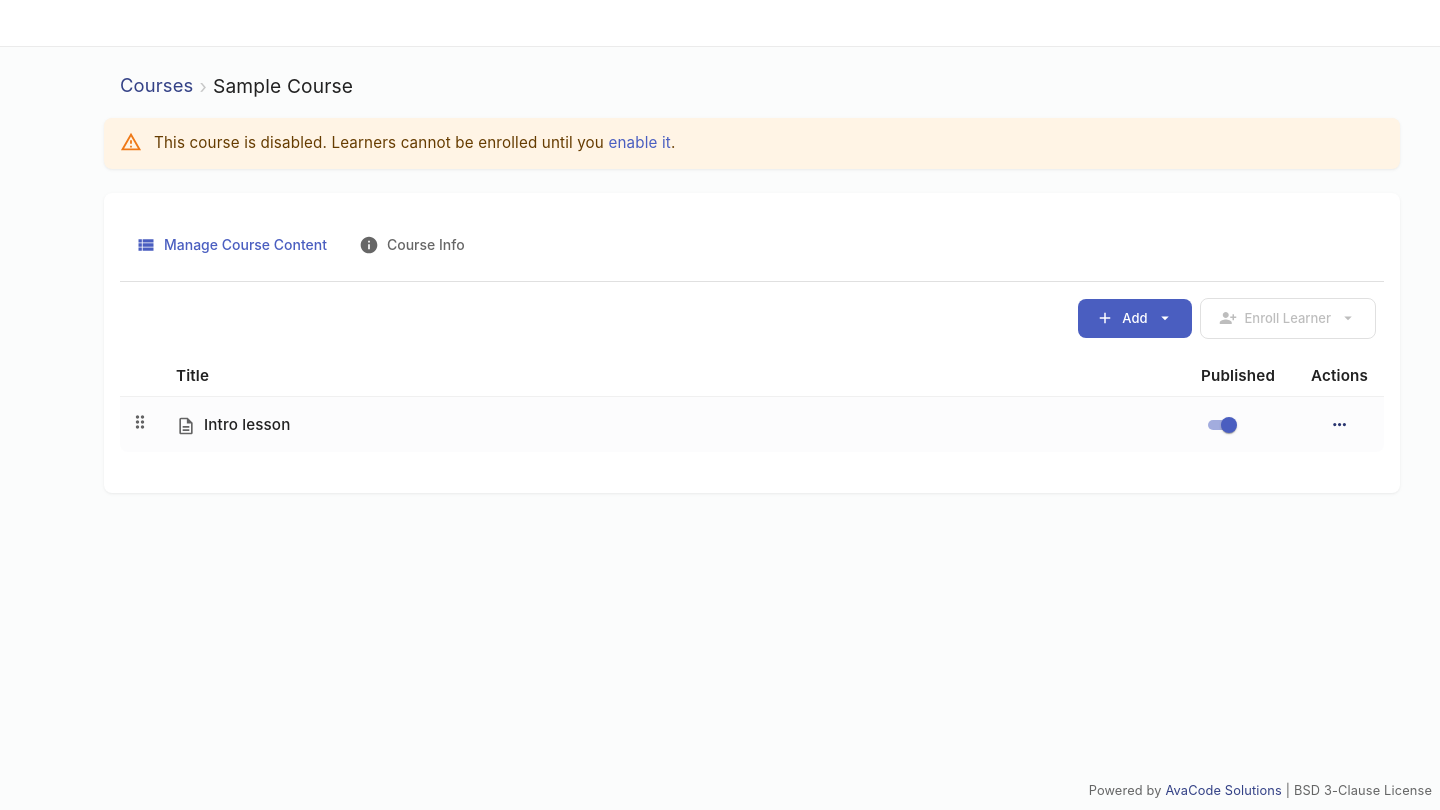
it: Course › opens the enable confirmation dialog when "enable it" is clicked
Click the button "enable it".
click(640, 144)  # box [608, 132, 671, 155]
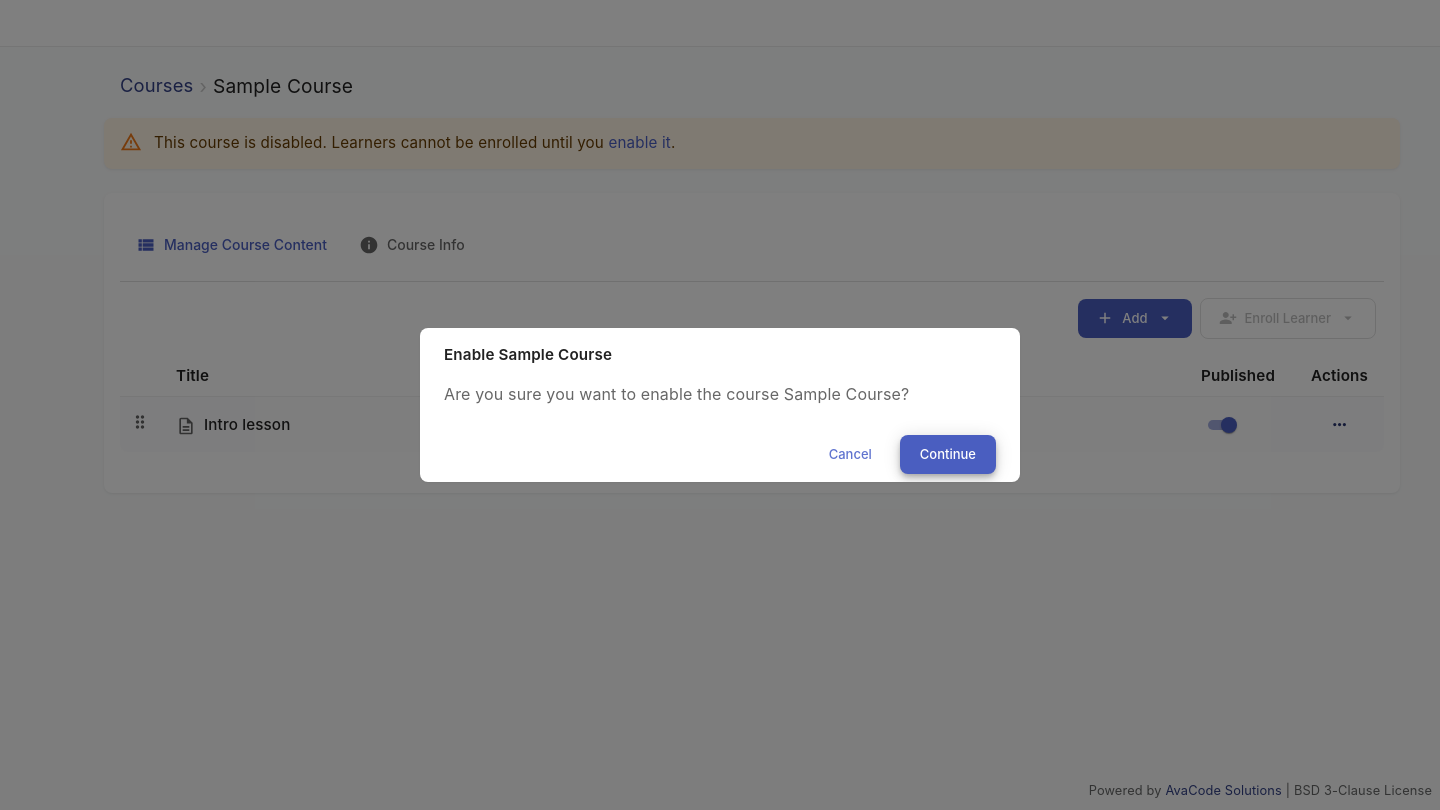
Expected: the heading "Enable Sample Course" is shown, [444, 345, 612, 364]
